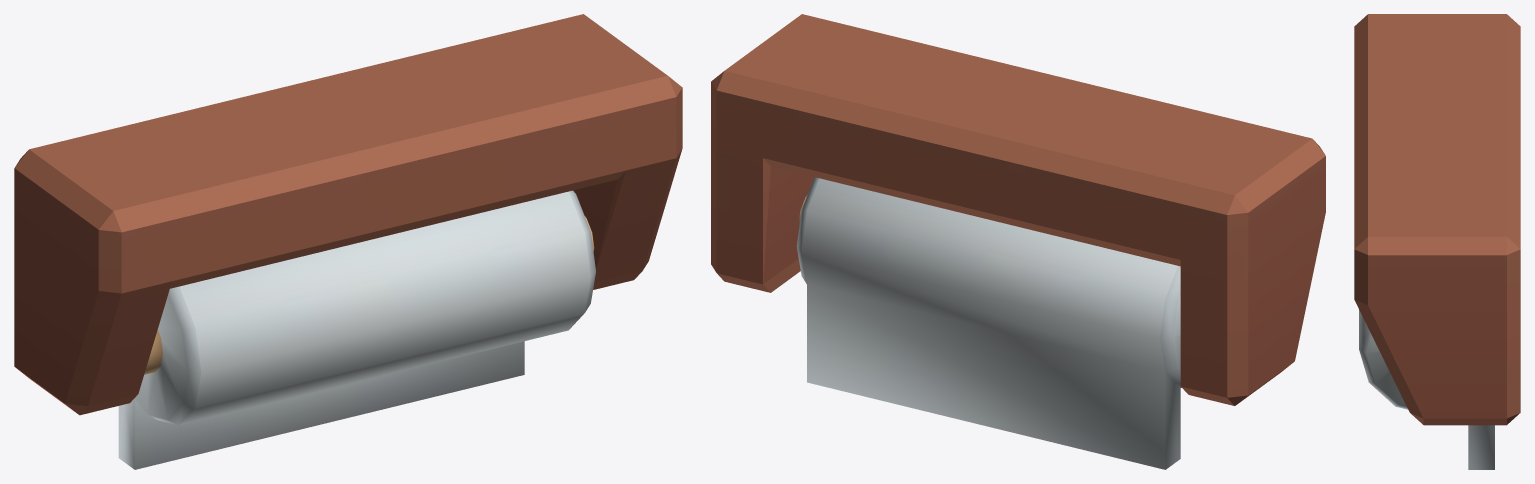
Rendered from shelf-papertowel.glb.
The picture shows the model from 3 angles, left to right: view 1: azimuth 30°, elevation 25°; view 2: azimuth 150°, elevation 25°; view 3: azimuth 270°, elevation 25°; orthographic projection. The views are drawn at different scales.
Parts seen in each view (by area): view 1: shelf_papertowel; view 2: shelf_papertowel; view 3: shelf_papertowel.
Boxes of the visible parts, x1,y1,x2,y2 form: shelf_papertowel: [14, 14, 682, 469]; shelf_papertowel: [711, 14, 1325, 469]; shelf_papertowel: [1354, 14, 1520, 469].
Bounding box in the file's own units: 2 × 1.06 × 0.5999.
1 material, 1 textured.
